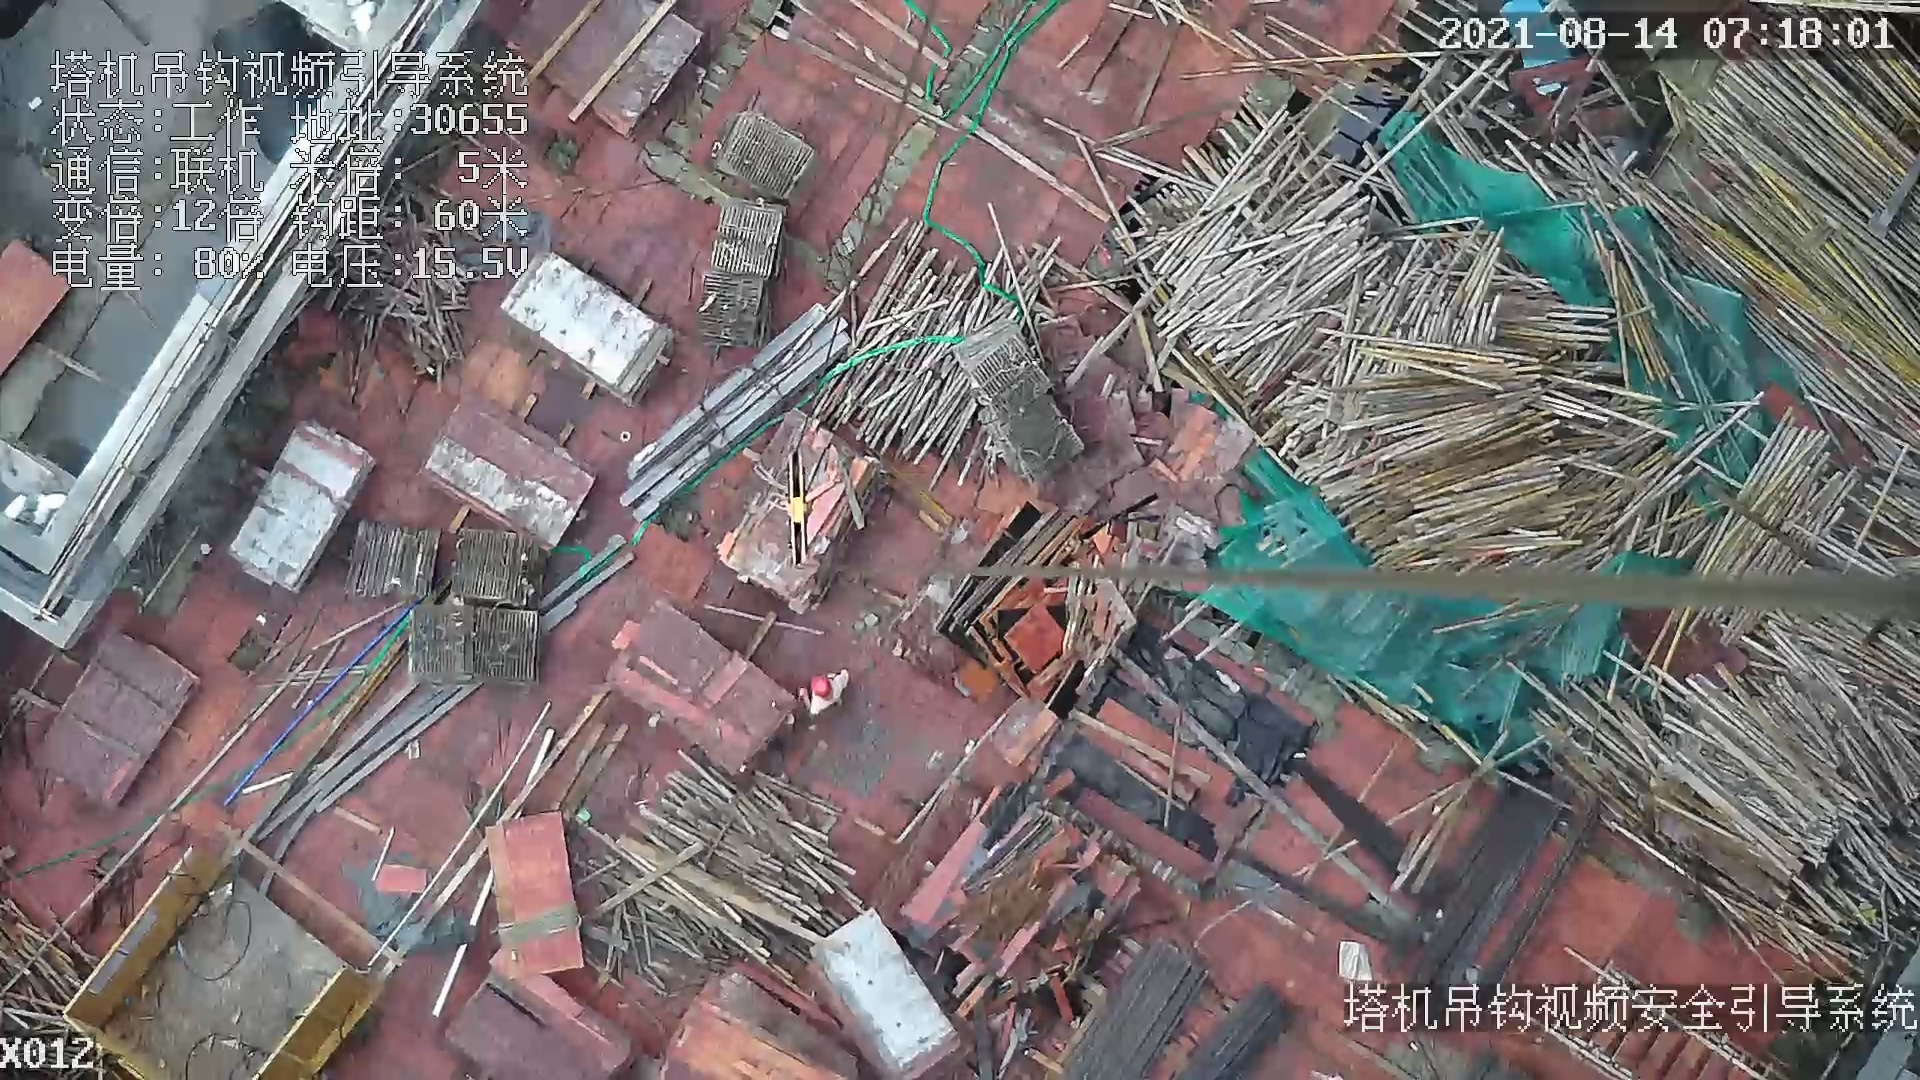helmet: (814, 674, 832, 702)
hook: (759, 445, 815, 572)
person: (805, 669, 856, 717)
